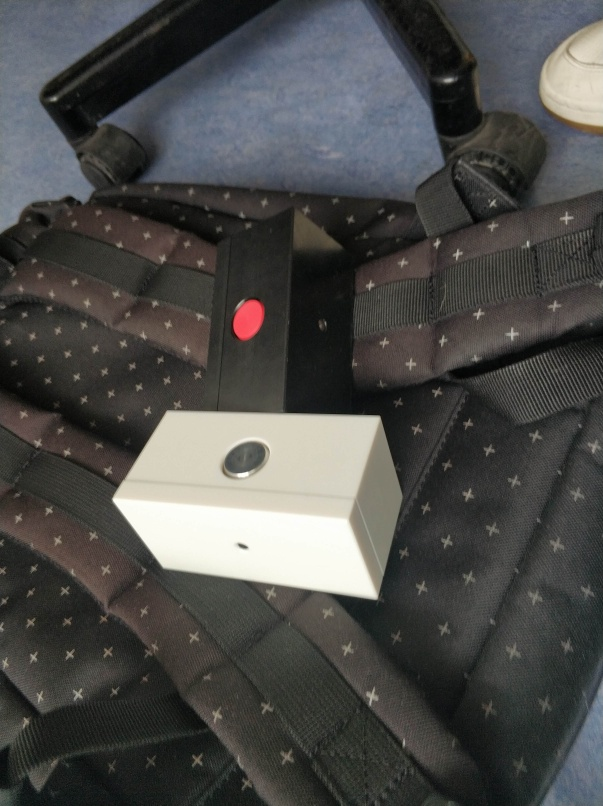black+black+red: (205, 208, 356, 422)
white+white+silver: (106, 402, 410, 602)
